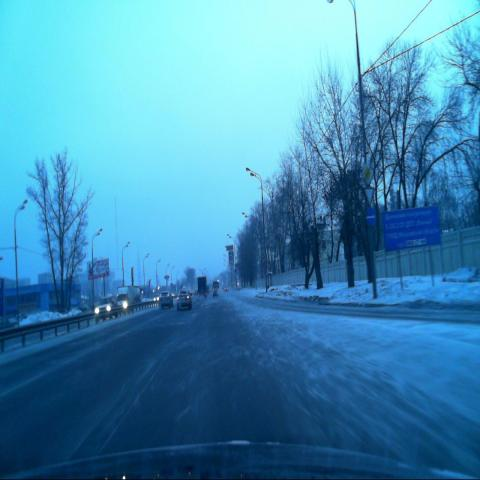4_1_2_1: (366, 207, 377, 228)
